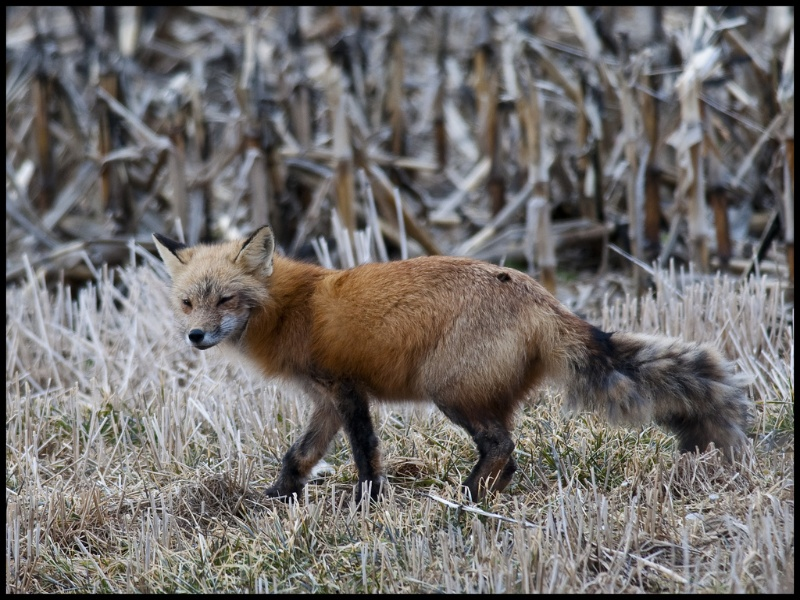fox: (145, 230, 754, 516)
